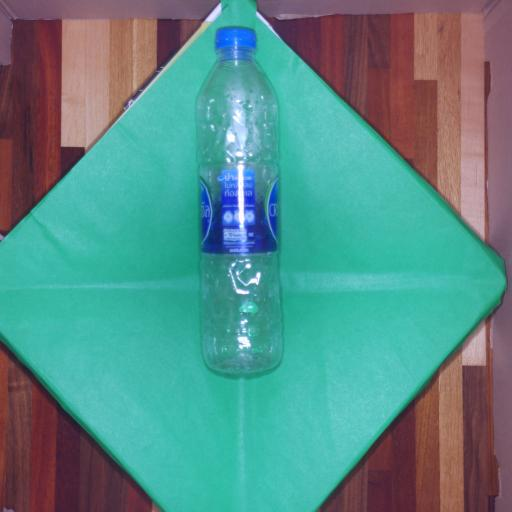bottle: (183, 13, 298, 395)
